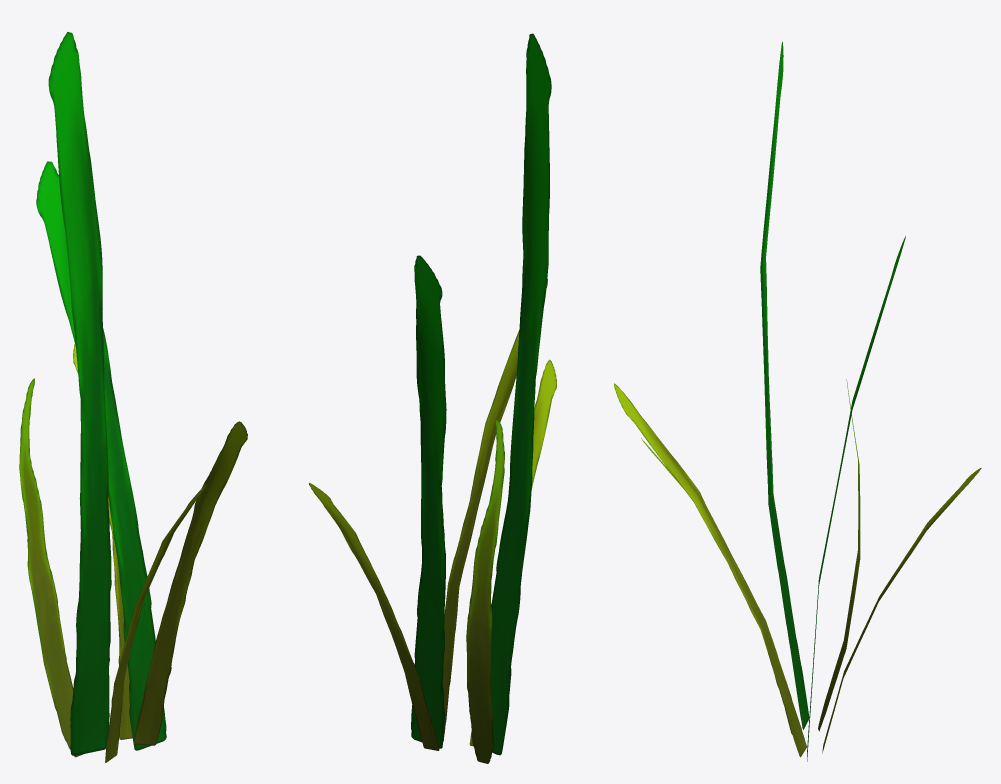
File: 21_Arbustitos.fbx
3 renders of one model, left to right at view 1: azimuth 30°, elevation 25°; view 2: azimuth 150°, elevation 25°; view 3: azimuth 270°, elevation 25°, orthographic. The views are drawn at different scales.
Visible parts, largest first — view 1: 21_Arbustitos; view 2: 21_Arbustitos; view 3: 21_Arbustitos.
Part boxes in pixels (bbox=[...]): 21_Arbustitos: bbox=[19, 32, 247, 762]; 21_Arbustitos: bbox=[309, 33, 556, 763]; 21_Arbustitos: bbox=[614, 41, 981, 761].
Size of the model in its own units: 16.49 by 69.74 by 35.15.
